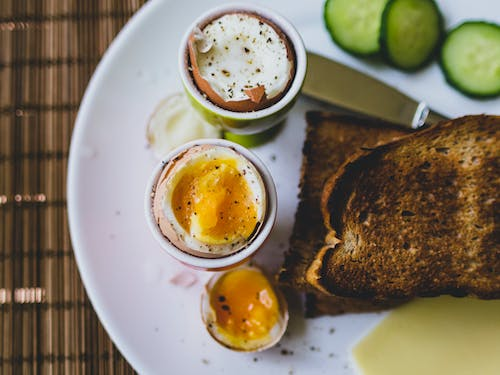knife: (301, 51, 452, 129)
